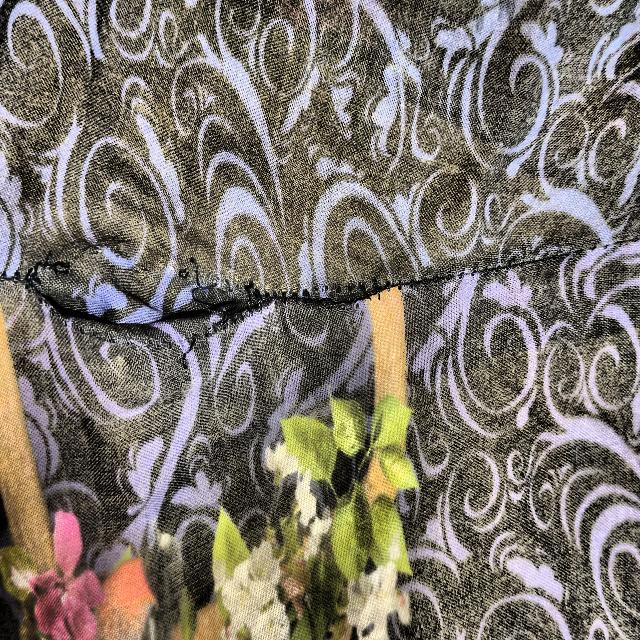seam: (11, 215, 399, 392)
